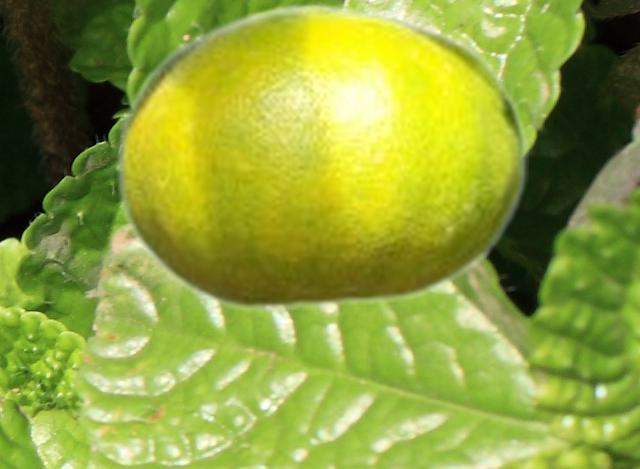dalandan: (114, 1, 527, 313)
